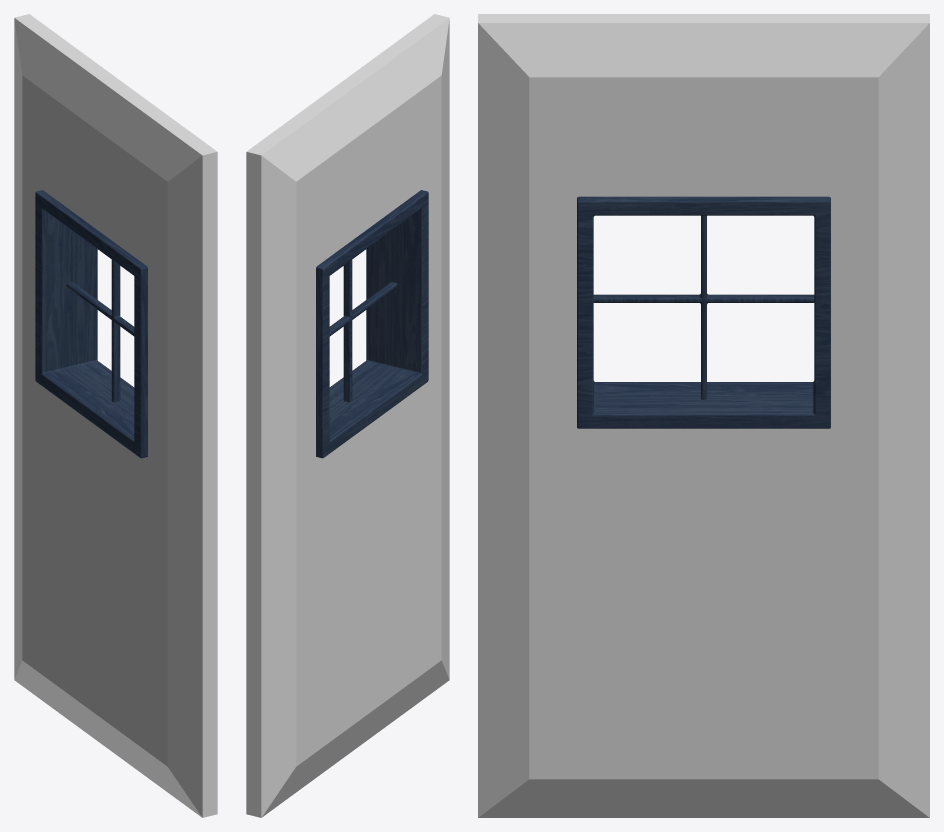
Rendered from window.fbx.
3 renders of one model, left to right at view 1: azimuth 30°, elevation 25°; view 2: azimuth 150°, elevation 25°; view 3: azimuth 270°, elevation 25°, orthographic. The views are drawn at different scales.
Visible parts, largest first — view 1: walls 2, walls 2.001; view 2: walls 2, walls 2.001; view 3: walls 2, walls 2.001.
Boxes of the visible parts, x1,y1,x2,y2 form: walls 2: (14, 14, 217, 817); walls 2.001: (35, 190, 147, 458); walls 2: (246, 14, 449, 817); walls 2.001: (316, 190, 428, 458); walls 2: (478, 14, 929, 817); walls 2.001: (577, 196, 830, 428).
Size of the model in its own units: 20.18 by 226 by 116.
